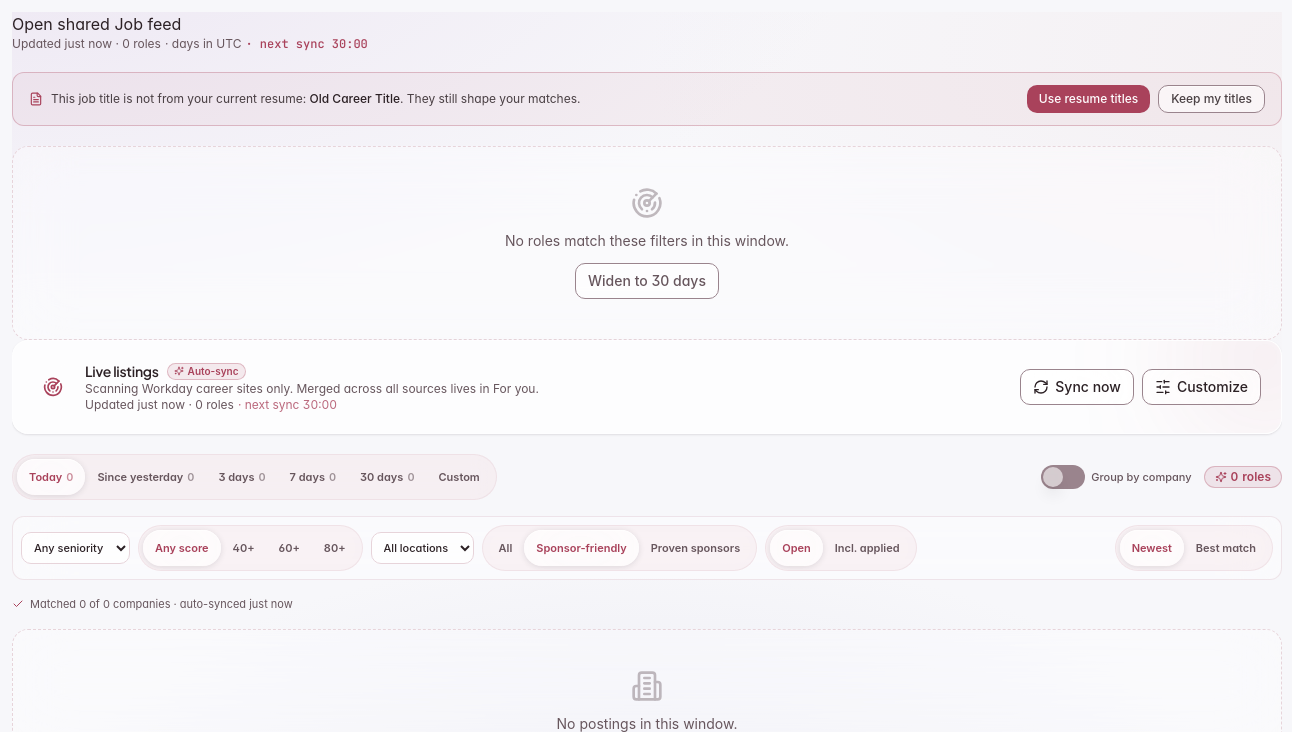
resume change re-derives the search titles › a set saved before provenance asks once and changes nothing until answered
This screenshot has width=1292, height=732.
Check: the message with test id "jobs-title-review" shows "Old Career Title", box [310,91,400,106]
Click the button "Use resume titles": x=1088, y=99 [1027,85,1150,113]
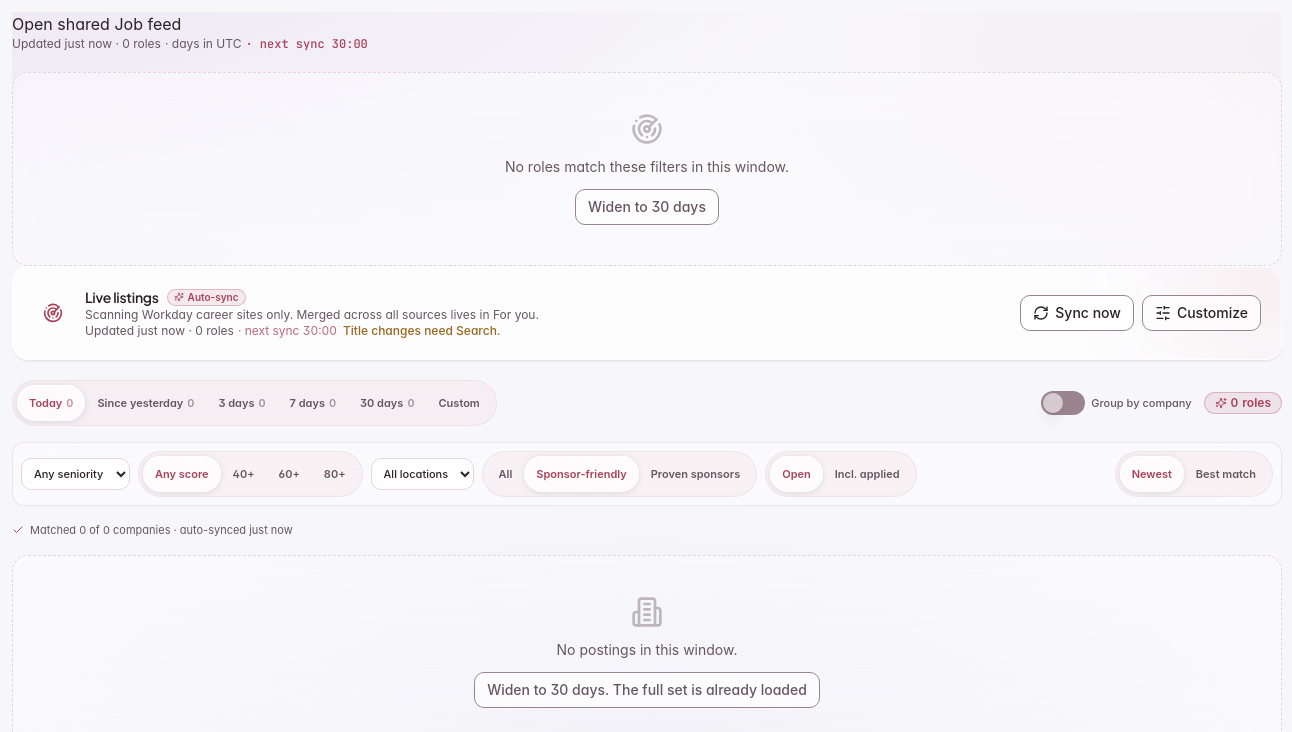
Check: the message with test id "jobs-title-review" is gone
